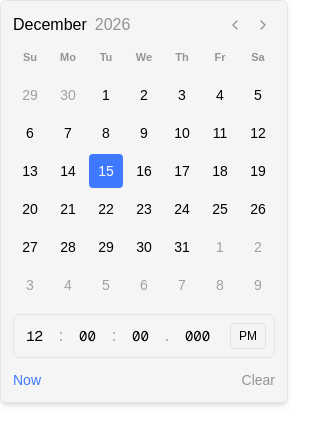
components/common/datetime-picker/calendar › navigates to the next month, wrapping the year forwards
The image size is (320, 424).
Click the button named "next month". click: (263, 25)
box: [251,13,275,37]
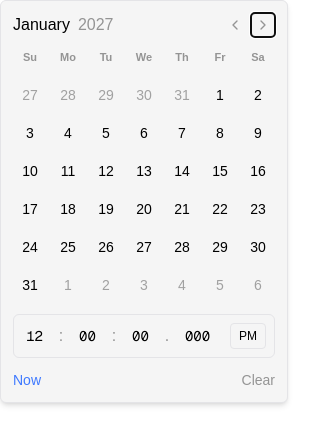
Expected: the text "January" is shown, [13,13,70,37]
Expected: the text "2027" is shown, [78,13,114,37]
